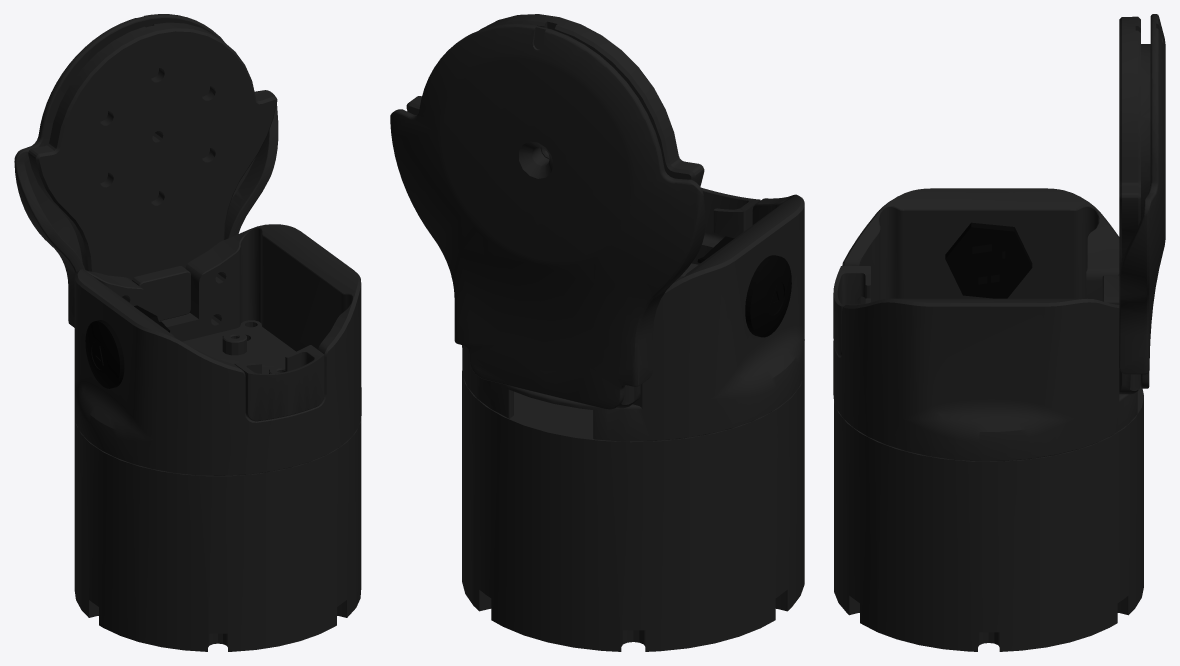
The picture shows the model from 3 angles, left to right: view 1: azimuth 30°, elevation 25°; view 2: azimuth 150°, elevation 25°; view 3: azimuth 270°, elevation 25°; orthographic projection. The views are drawn at different scales.
Size of the model in its own units: 0.06 by 0.1135 by 0.0609.
1 material, 1 textured.
